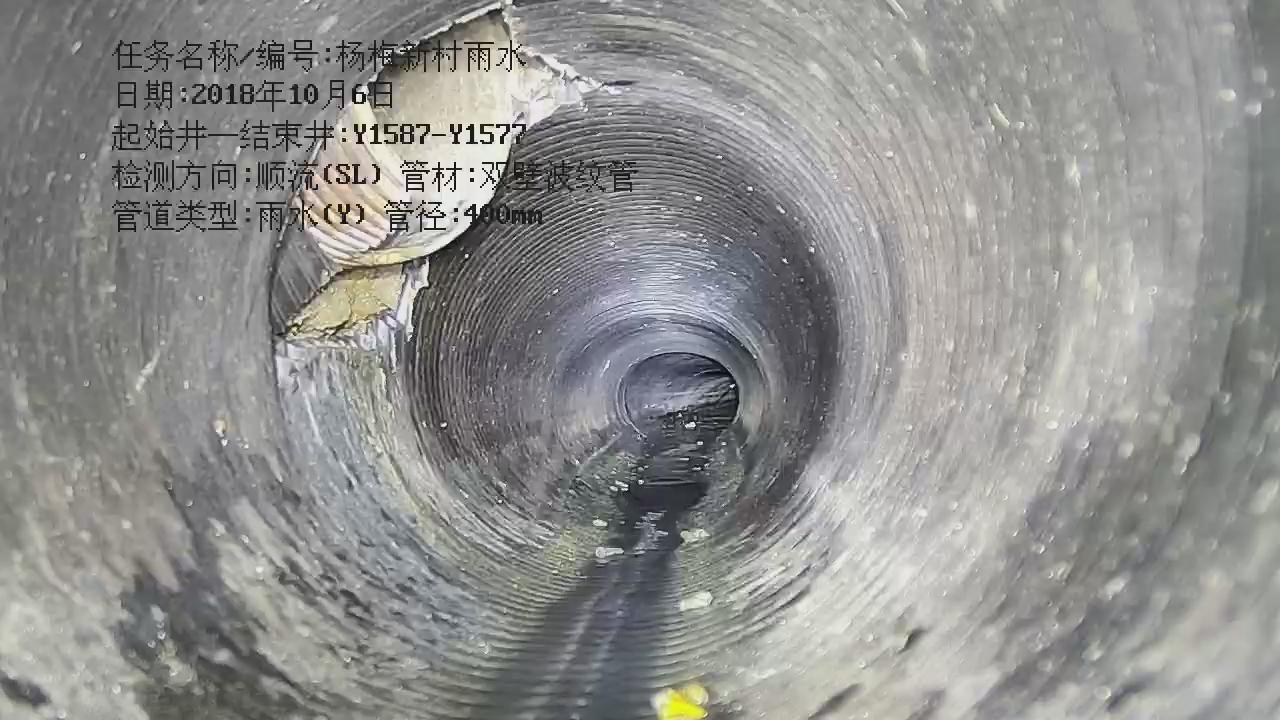PL: (271, 11, 588, 341)
